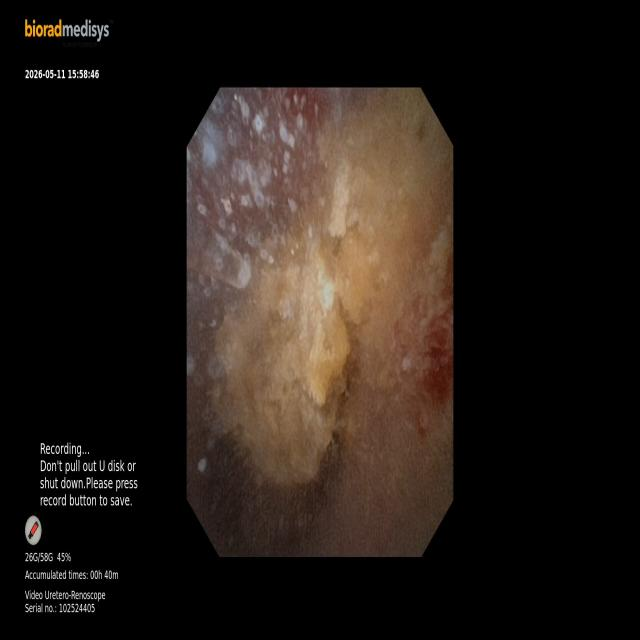laser-fibre: (185, 209, 250, 287)
stone-new: (216, 89, 453, 484)
